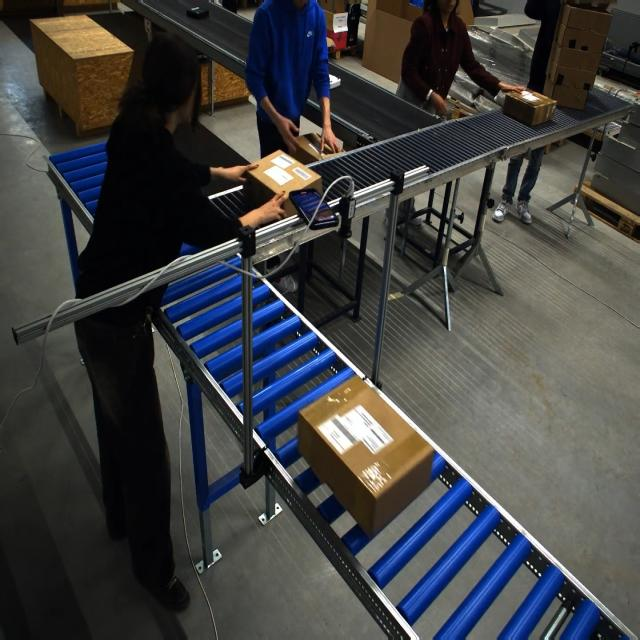box: (304, 385, 428, 536), (245, 150, 319, 220), (501, 88, 558, 128), (552, 44, 604, 73), (293, 131, 337, 164), (549, 79, 595, 110)
product: (186, 6, 209, 19)
